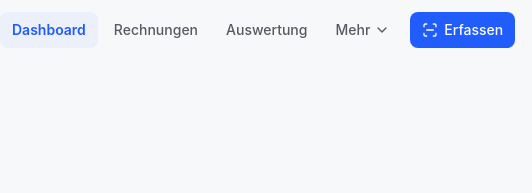
Nav › renders overflow entries as real anchors with an href
Click the button "Mehr" at (363, 30), box [324,12,402,48]
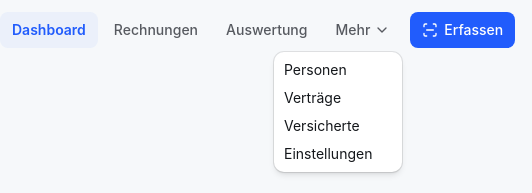
Expected: the menu item "Personen" is shown, [284,61,347,78]
Expected: the menu item "Verträge" is shown, [284,89,341,106]
Expected: the menu item "Versicherte" is shown, [284,117,360,134]
